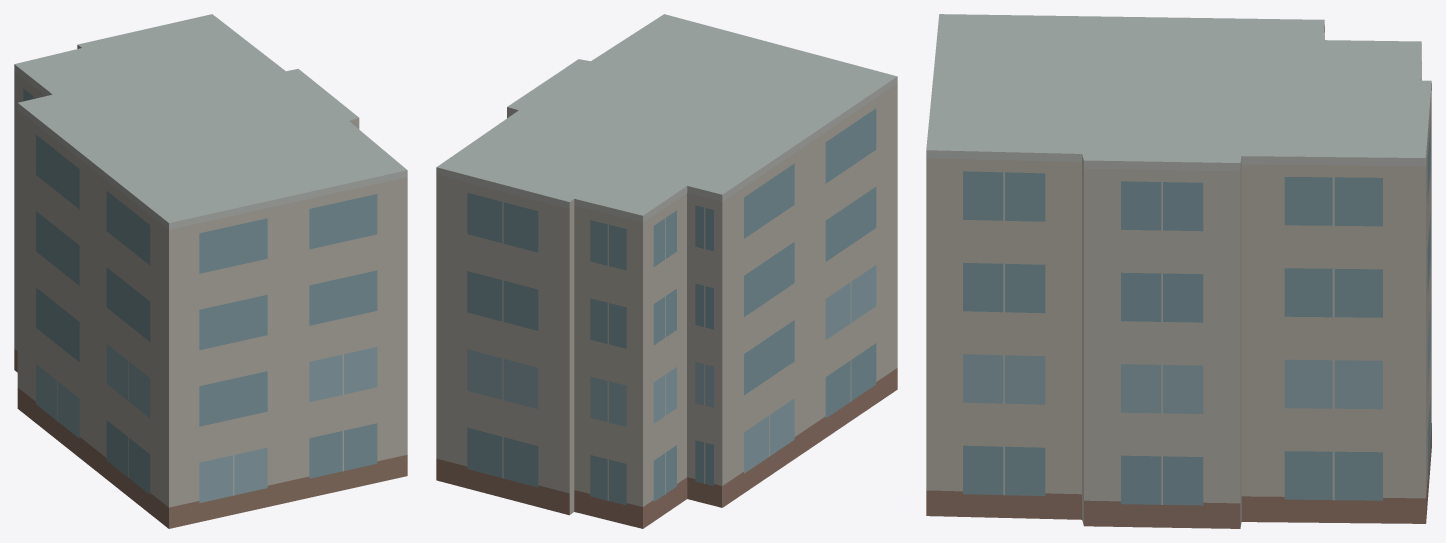
File: survey-upis-32495136.glb
The picture shows the model from 3 angles, left to right: view 1: azimuth 30°, elevation 25°; view 2: azimuth 150°, elevation 25°; view 3: azimuth 270°, elevation 25°; orthographic projection. The views are drawn at different scales.
Parts seen in each view (by area): view 1: survey-upis-32495136.tmp; view 2: survey-upis-32495136.tmp; view 3: survey-upis-32495136.tmp.
Part boxes in pixels (bbox=[...]): survey-upis-32495136.tmp: bbox=[14, 14, 407, 528]; survey-upis-32495136.tmp: bbox=[436, 14, 897, 528]; survey-upis-32495136.tmp: bbox=[926, 14, 1431, 528].
Size of the model in its own units: 9.63 by 11 by 13.79.
